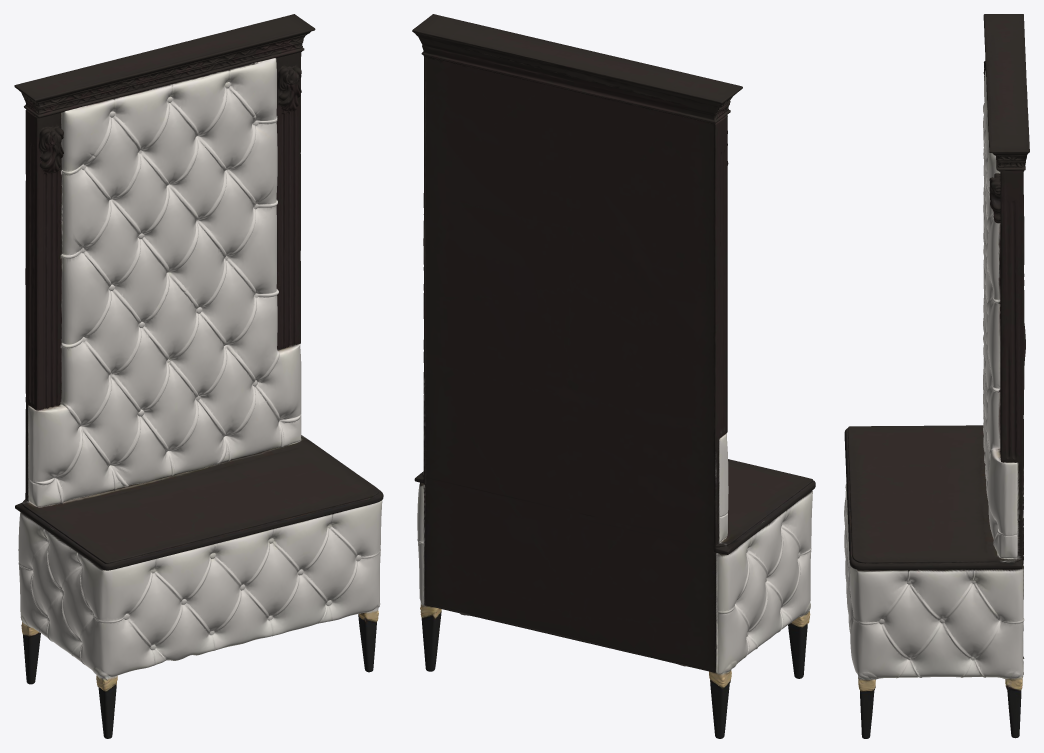
File: Avangard.glb
The picture shows the model from 3 angles, left to right: view 1: azimuth 30°, elevation 25°; view 2: azimuth 150°, elevation 25°; view 3: azimuth 270°, elevation 25°; orthographic projection. The views are drawn at different scales.
Parts seen in each view (by area): view 1: tripo_node_845290d5-2ad0-4593-9e8c-8f83c43b0474; view 2: tripo_node_845290d5-2ad0-4593-9e8c-8f83c43b0474; view 3: tripo_node_845290d5-2ad0-4593-9e8c-8f83c43b0474.
Boxes of the visible parts, left/top/right/bottom form: tripo_node_845290d5-2ad0-4593-9e8c-8f83c43b0474: left=14, top=14, right=383, bottom=738; tripo_node_845290d5-2ad0-4593-9e8c-8f83c43b0474: left=412, top=14, right=815, bottom=738; tripo_node_845290d5-2ad0-4593-9e8c-8f83c43b0474: left=844, top=14, right=1029, bottom=738.
Bounding box in the file's own units: 0.504 × 0.9773 × 0.2785.
Materials: 1 (1 with a texture image).
